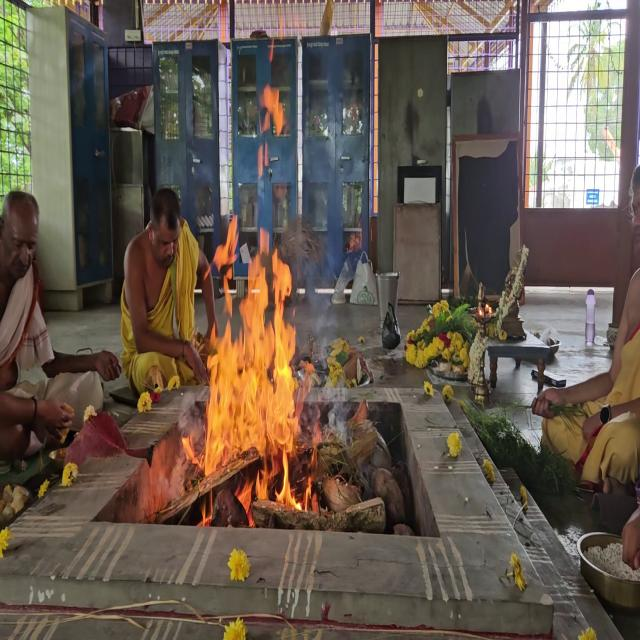fire: (187, 74, 309, 526)
